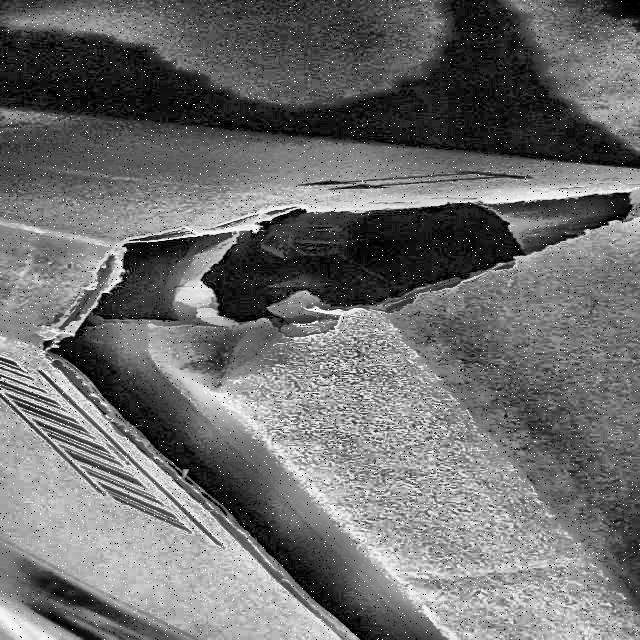box: (0, 94, 639, 640)
hole: (83, 180, 639, 336)
